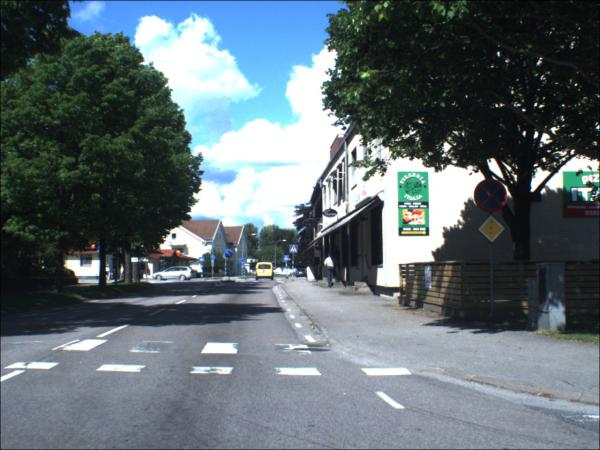NO_STOPPING_NO_STANDING: (476, 180, 510, 215)
PASS_RIGHT_SIDE: (226, 251, 235, 260), (240, 261, 247, 267)
PEDESTRIAN_CROSSING: (291, 246, 300, 255), (285, 256, 291, 262), (201, 258, 206, 263)
PRIORITY_ROAD: (478, 216, 508, 246)
